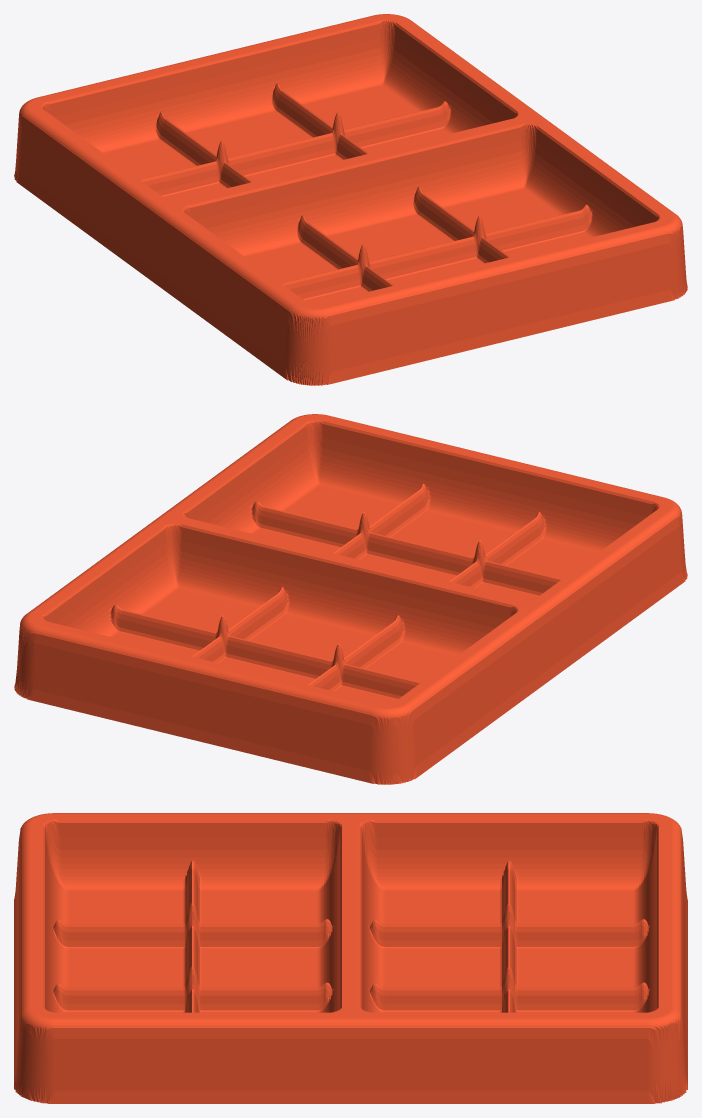
Rendered from mold.glb.
The picture shows the model from 3 angles, top to bottom: view 1: azimuth 30°, elevation 25°; view 2: azimuth 150°, elevation 25°; view 3: azimuth 270°, elevation 25°; orthographic projection. The views are drawn at different scales.
Parts seen in each view (by area): view 1: geometry_0; view 2: geometry_0; view 3: geometry_0.
Boxes of the visible parts, x1,y1,x2,y2 form: geometry_0: [14, 14, 687, 385]; geometry_0: [14, 414, 687, 784]; geometry_0: [14, 813, 687, 1103].
Bounding box in the file's own units: 0.1158 × 0.0195 × 0.1513.
